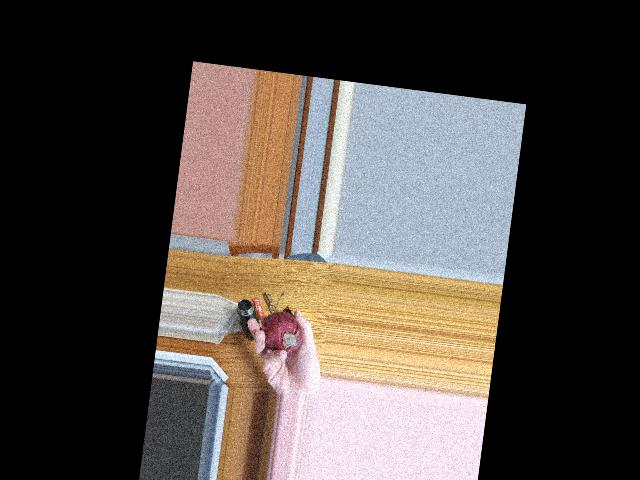onion: (260, 309, 307, 357)
